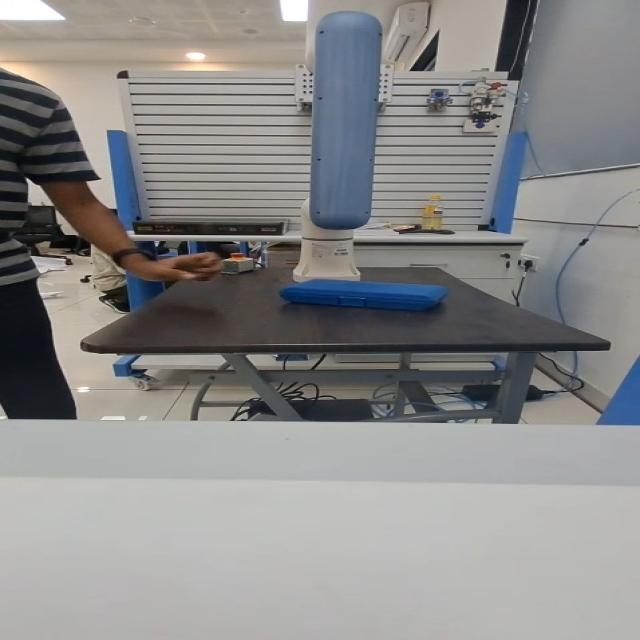top-surface: (311, 280, 428, 294)
